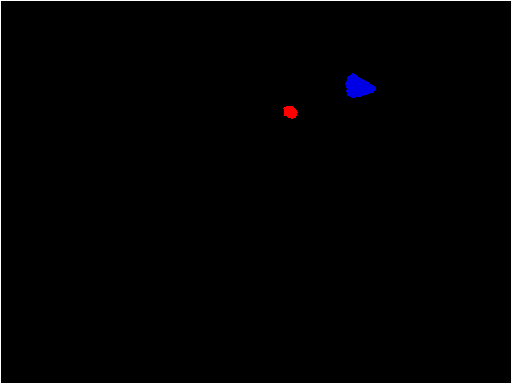chipped: (350, 73, 376, 96)
detached: (282, 102, 295, 116)
